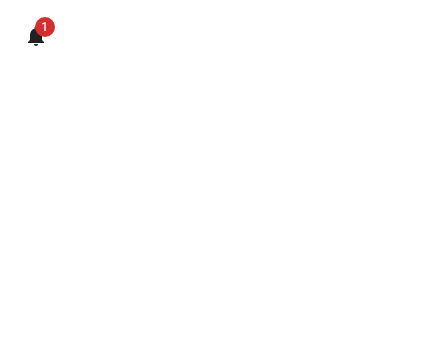
it: NotificationMenu › keeps notification unread when mark-read fails
The width and height of the screenshot is (431, 347).
expect the text "1" is shown: met, box x1=35 y1=17 x2=55 y2=37
What coordinates should you click on to do the following:
click the button named "Notifications"
I would click on:
 (36, 36)
Its box is x1=12 y1=12 x2=60 y2=60.
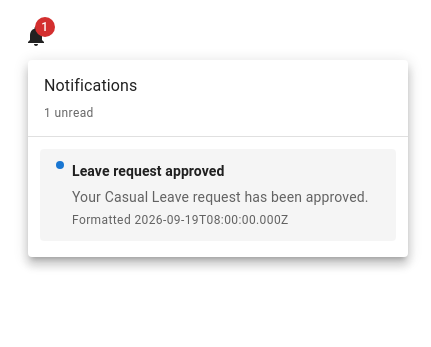
expect the text "Leave request approved" is shown: met
What coordinates should you click on to do the following:
click the text "Leave request approved"
I would click on:
 (148, 171)
Its box is x1=72 y1=163 x2=224 y2=179.
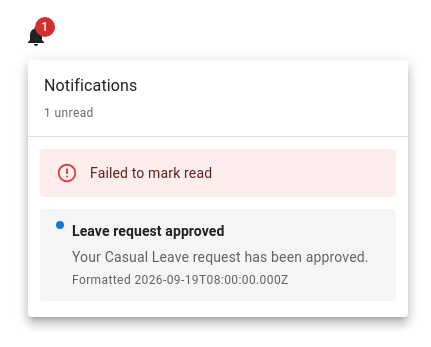
expect the text "1" is shown: met, box x1=35 y1=17 x2=55 y2=37
expect the text "Failed to mark read" is shown: met, box x1=90 y1=165 x2=212 y2=181
